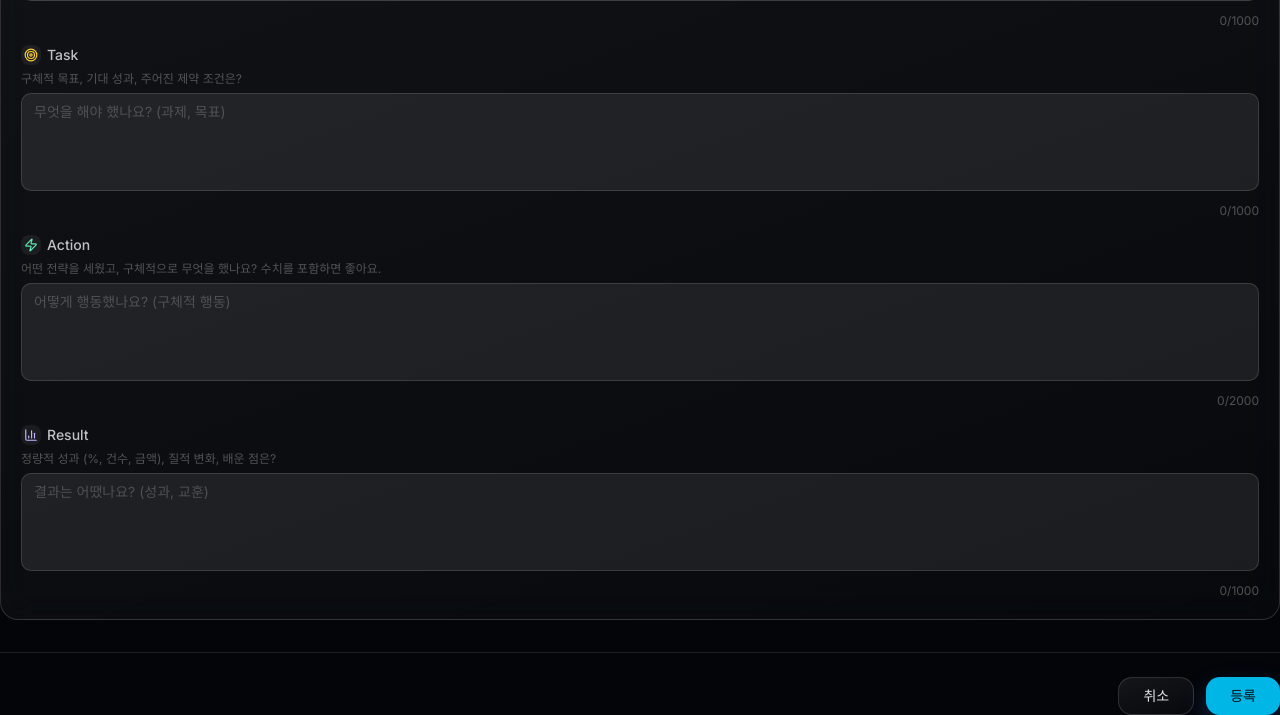
it: ExperienceForm › shows validation error for empty title on submit
The width and height of the screenshot is (1280, 715).
(page scrolled)
Click the button "등록" at (1243, 696), box 1206,677 -> 1279,714
(page scrolled)
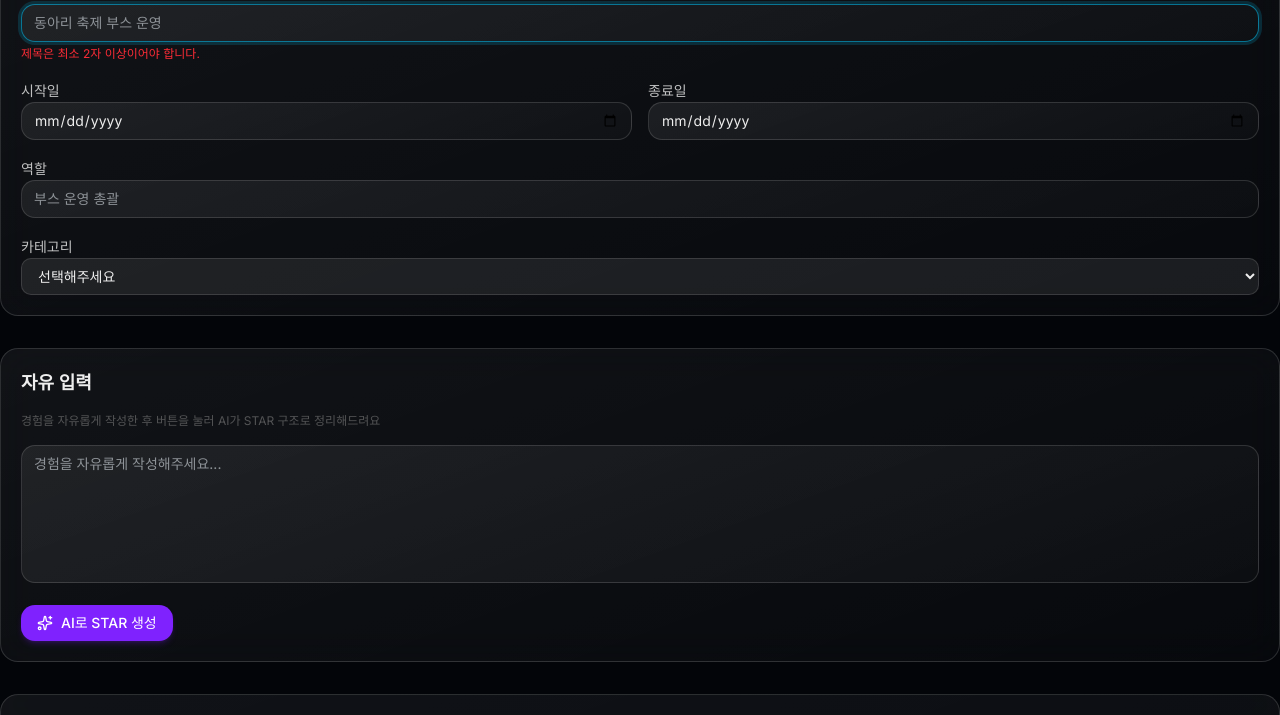
Check: the text "제목은 최소 2자 이상이어야 합니다." is shown, box 21,46 -> 200,61
